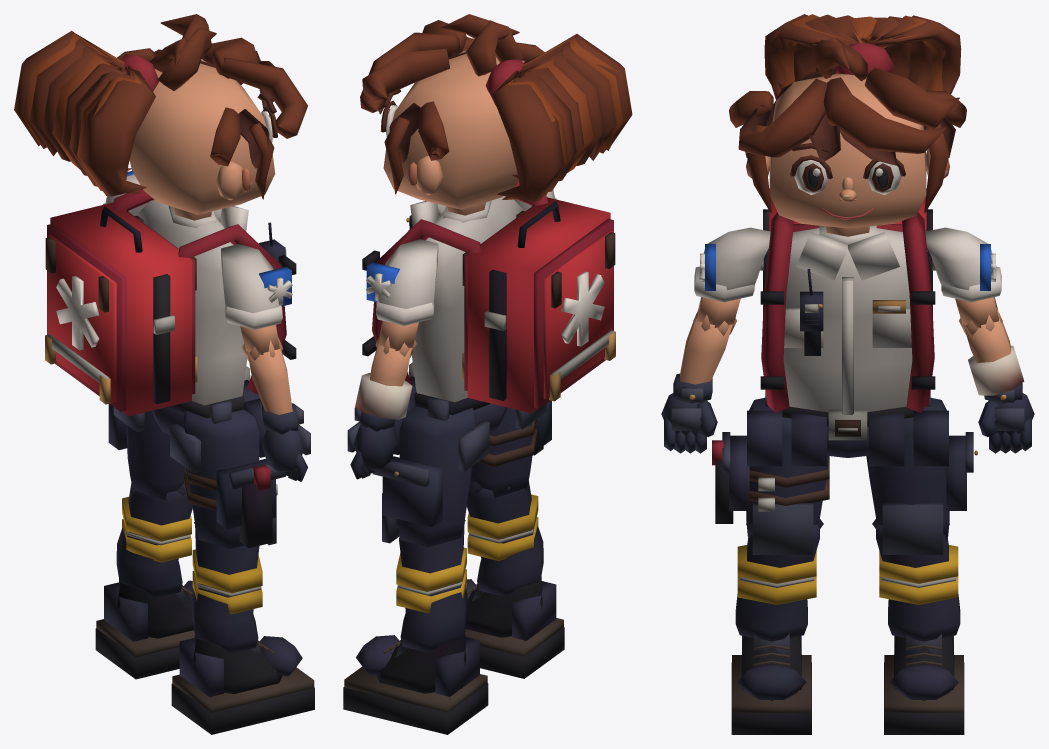
File: npc.paramedic.aftermath.lod1.glb
3 views of the same model, side by side, from view 1: azimuth 30°, elevation 25°; view 2: azimuth 150°, elevation 25°; view 3: azimuth 270°, elevation 25° (orthographic).
Visible parts, largest first — view 1: head, torso, legR, footR, footL, shinR, shinL, armR, legL, foreArmR, hip, handR; view 2: head, torso, legL, footL, footR, shinL, shinR, armL, legR, foreArmL, hip, handL; view 3: head, torso, hip, legR, legL, footR, footL, shinR, shinL, armL, armR, foreArmL (+3 smaller).
Part boxes in pixels (bbox=[...]): head: bbox=[14, 14, 307, 220]; torso: bbox=[45, 189, 296, 416]; legR: bbox=[170, 409, 285, 548]; footR: bbox=[171, 635, 314, 734]; footL: bbox=[95, 579, 194, 679]; shinR: bbox=[192, 522, 262, 653]; shinL: bbox=[116, 483, 192, 598]; armR: bbox=[221, 244, 292, 354]; legL: bbox=[108, 403, 185, 500]; foreArmR: bbox=[242, 337, 303, 434]; hip: bbox=[152, 366, 266, 457]; handR: bbox=[261, 424, 310, 481]; head: bbox=[360, 14, 632, 215]; torso: bbox=[362, 181, 615, 413]; legL: bbox=[372, 406, 489, 546]; footL: bbox=[343, 633, 488, 734]; footR: bbox=[465, 576, 564, 678]; shinL: bbox=[395, 519, 467, 652]; shinR: bbox=[466, 480, 543, 596]; armL: bbox=[366, 239, 438, 351]; legR: bbox=[469, 400, 551, 498]; foreArmL: bbox=[354, 333, 416, 431]; hip: bbox=[392, 362, 507, 454]; handL: bbox=[347, 421, 397, 479]; head: bbox=[729, 14, 966, 236]; torso: bbox=[760, 189, 935, 414]; hip: bbox=[747, 390, 948, 466]; legR: bbox=[712, 397, 829, 554]; legL: bbox=[866, 397, 977, 554]; footR: bbox=[731, 634, 811, 734]; footL: bbox=[884, 634, 964, 734]; shinR: bbox=[735, 519, 823, 641]; shinL: bbox=[872, 519, 960, 641]; armL: bbox=[925, 227, 1001, 327]; armR: bbox=[694, 227, 770, 327]; foreArmL: bbox=[959, 308, 1024, 403].
Size of the model in its own units: 0.6145 by 1.81 by 0.9277.
